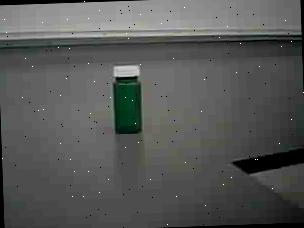Bottle C: (99, 58, 154, 144)
